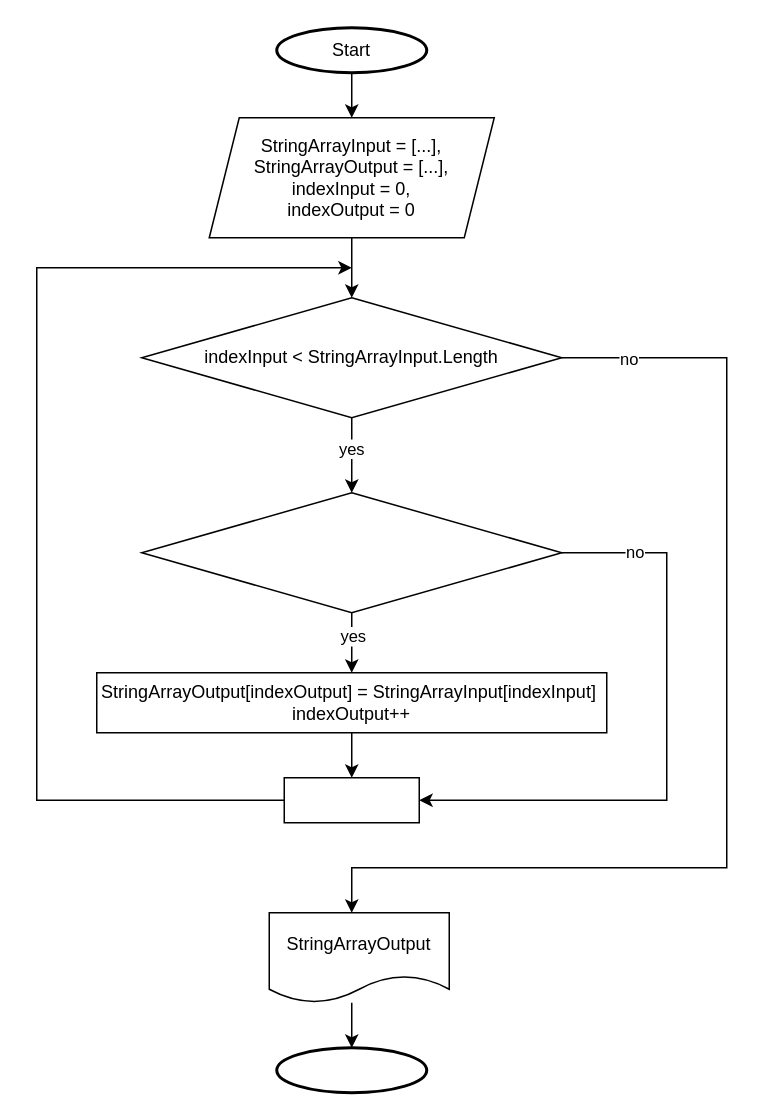
The diagram is 765 pixels wide and 1119 high, and some of its shapes have lost their labels. The centre of each missing label's shape, as x and y in pixels:
end: (351,1070)
indexInput++: (351,799)
StringArrayInput[indexInput] <= 3: (351,552)
